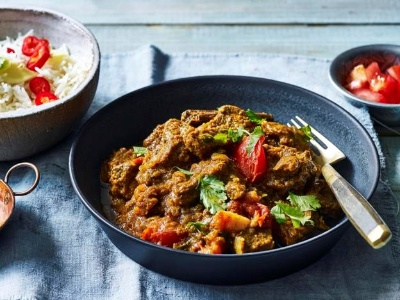rendang: (114, 107, 319, 236)
